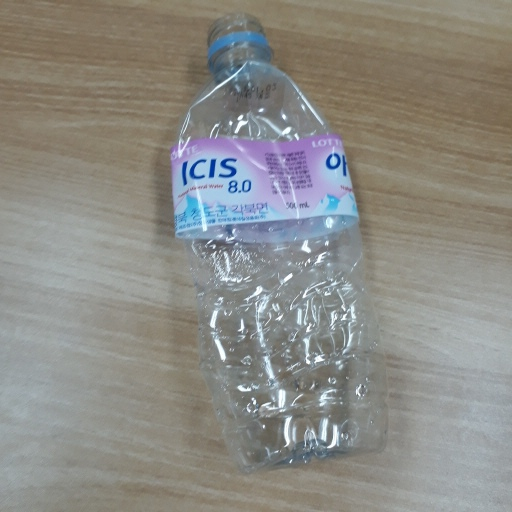Plastic_0: (168, 12, 390, 471)
